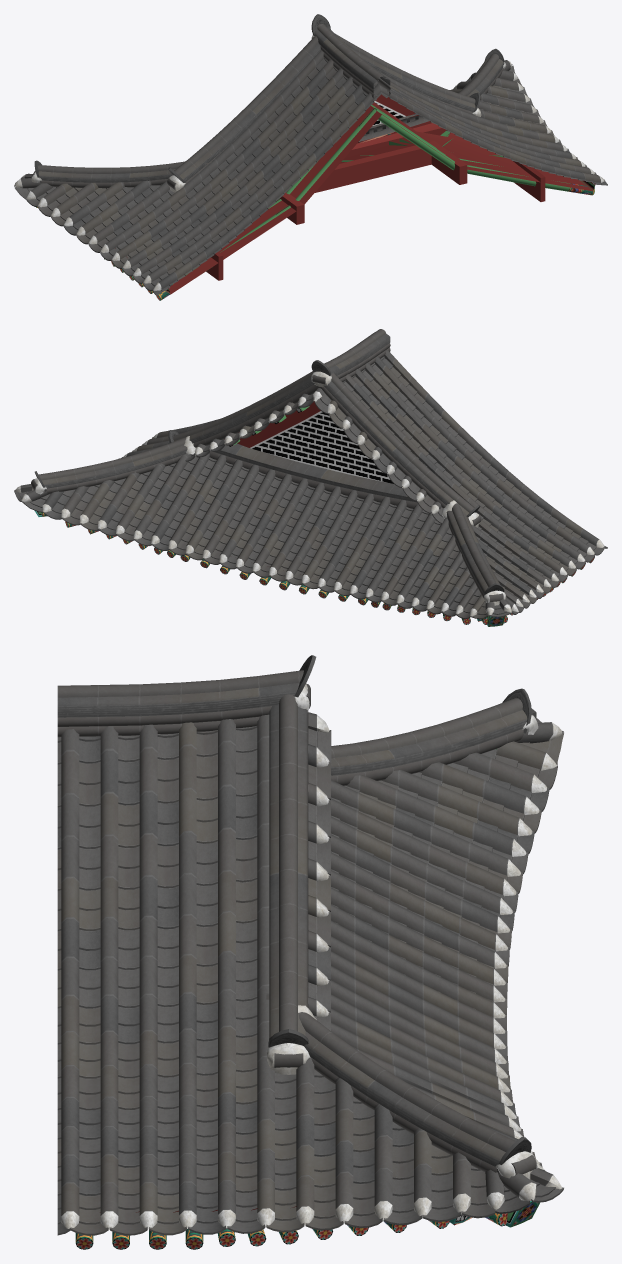
Rendered from SM_Castle_Roof03b.fbx.
3 views of the same model, one above another, from view 1: azimuth 30°, elevation 25°; view 2: azimuth 150°, elevation 25°; view 3: azimuth 270°, elevation 25° (orthographic). The views are drawn at different scales.
Visible parts, largest first — view 1: SM_Castle_Roof03b; view 2: SM_Castle_Roof03b; view 3: SM_Castle_Roof03b.
Part boxes in pixels (x1,y1,x2,y2): SM_Castle_Roof03b: (14, 14, 607, 300); SM_Castle_Roof03b: (14, 329, 607, 626); SM_Castle_Roof03b: (57, 655, 563, 1249).
Size of the model in its own units: 912 by 401 by 342.
2 materials, 2 textured.
